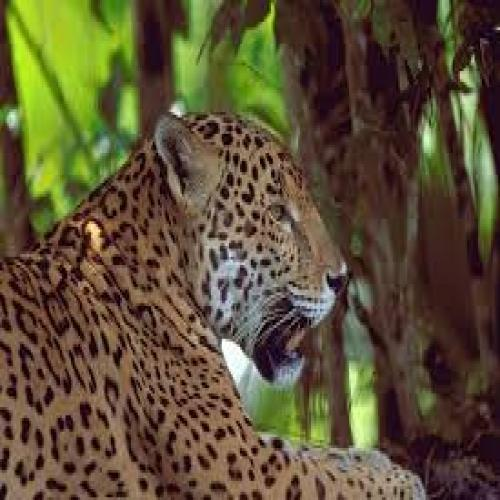jaguar_not-endangered: (0, 117, 423, 500)
